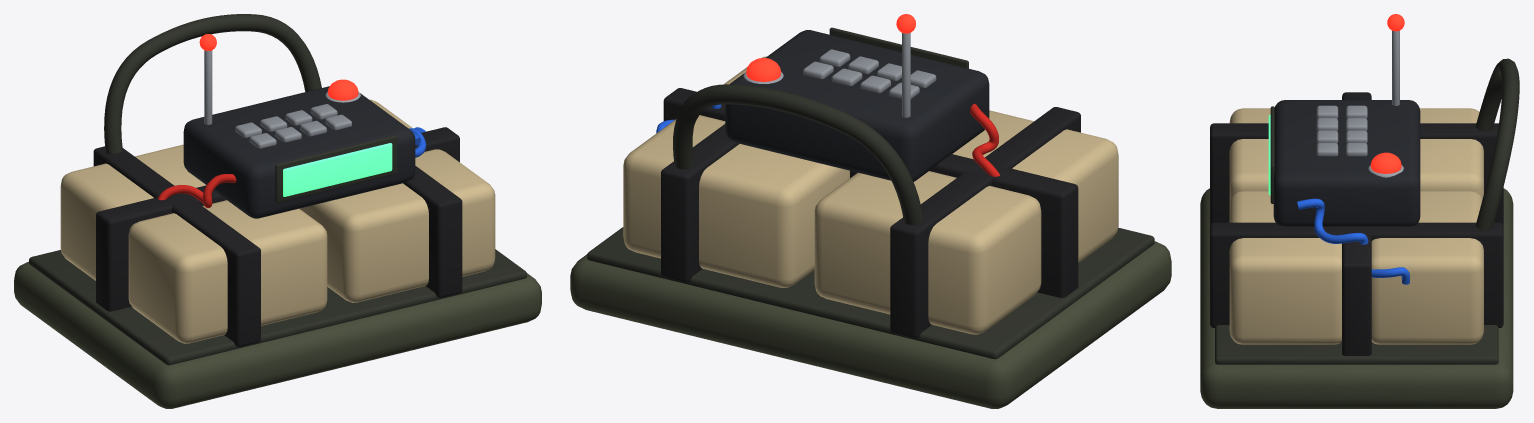
Rendered from bomb.glb.
3 views of the same model, side by side, from view 1: azimuth 30°, elevation 25°; view 2: azimuth 150°, elevation 25°; view 3: azimuth 270°, elevation 25° (orthographic). The views are drawn at different scales.
Parts seen in each view (by area): view 1: Bomb; view 2: Bomb; view 3: Bomb.
Part boxes in pixels (left/top/right/bottom): Bomb: left=14, top=14, right=541, bottom=408; Bomb: left=570, top=14, right=1171, bottom=408; Bomb: left=1200, top=14, right=1519, bottom=408.
Size of the model in its own units: 0.46 by 0.316 by 0.3265.
